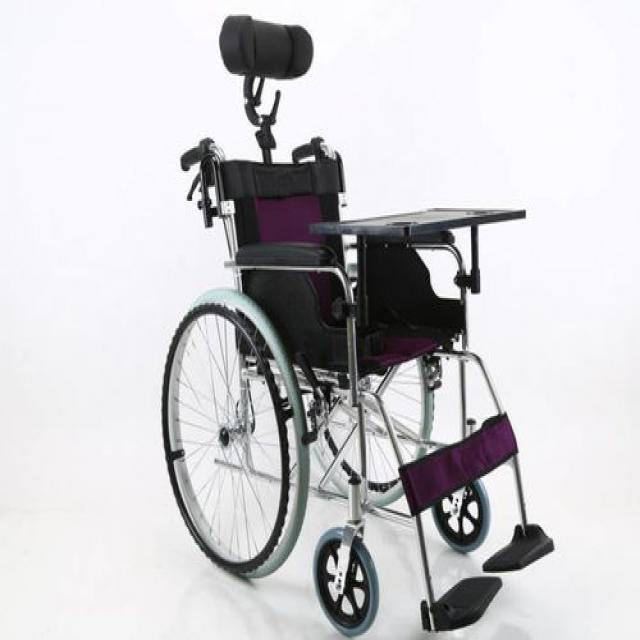wheelchair: (155, 6, 543, 638)
